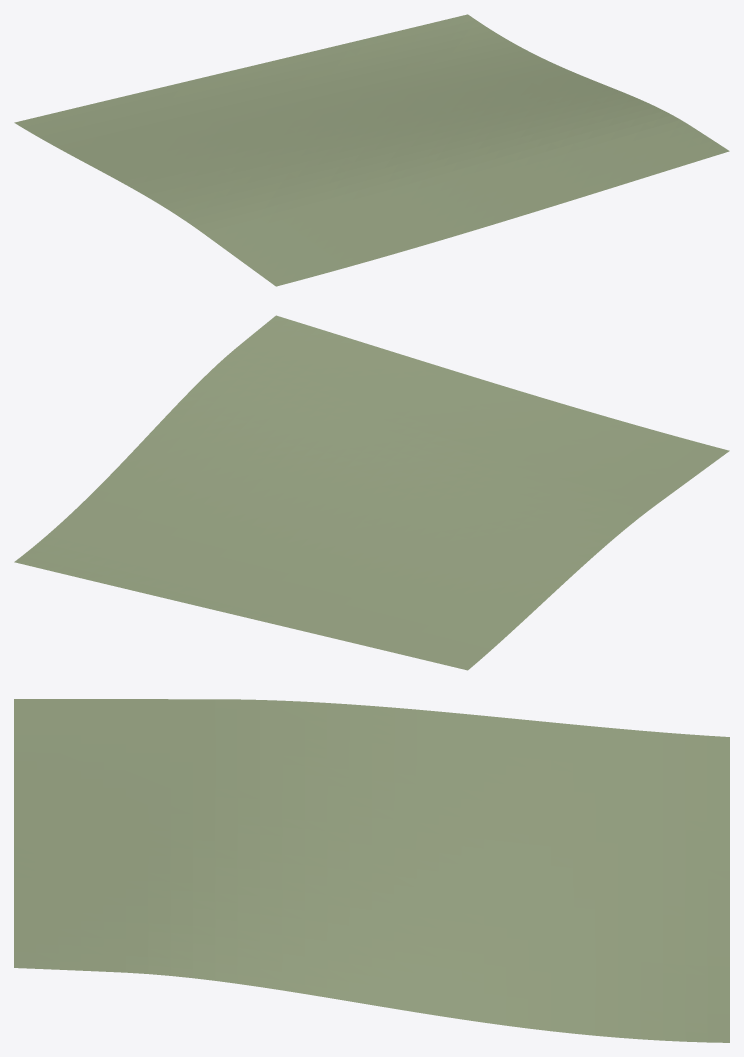
The model's file is valley-9-8.glb.
The picture shows the model from 3 angles, top to bottom: view 1: azimuth 30°, elevation 25°; view 2: azimuth 150°, elevation 25°; view 3: azimuth 270°, elevation 25°; orthographic projection. The views are drawn at different scales.
Visible parts, largest first — view 1: valley-9-8; view 2: valley-9-8; view 3: valley-9-8.
Part boxes in pixels (x1,y1,x2,y2): valley-9-8: (14, 14, 729, 286); valley-9-8: (14, 315, 729, 670); valley-9-8: (14, 699, 729, 1042).
Size of the model in its own units: 256 by 29.58 by 256.
